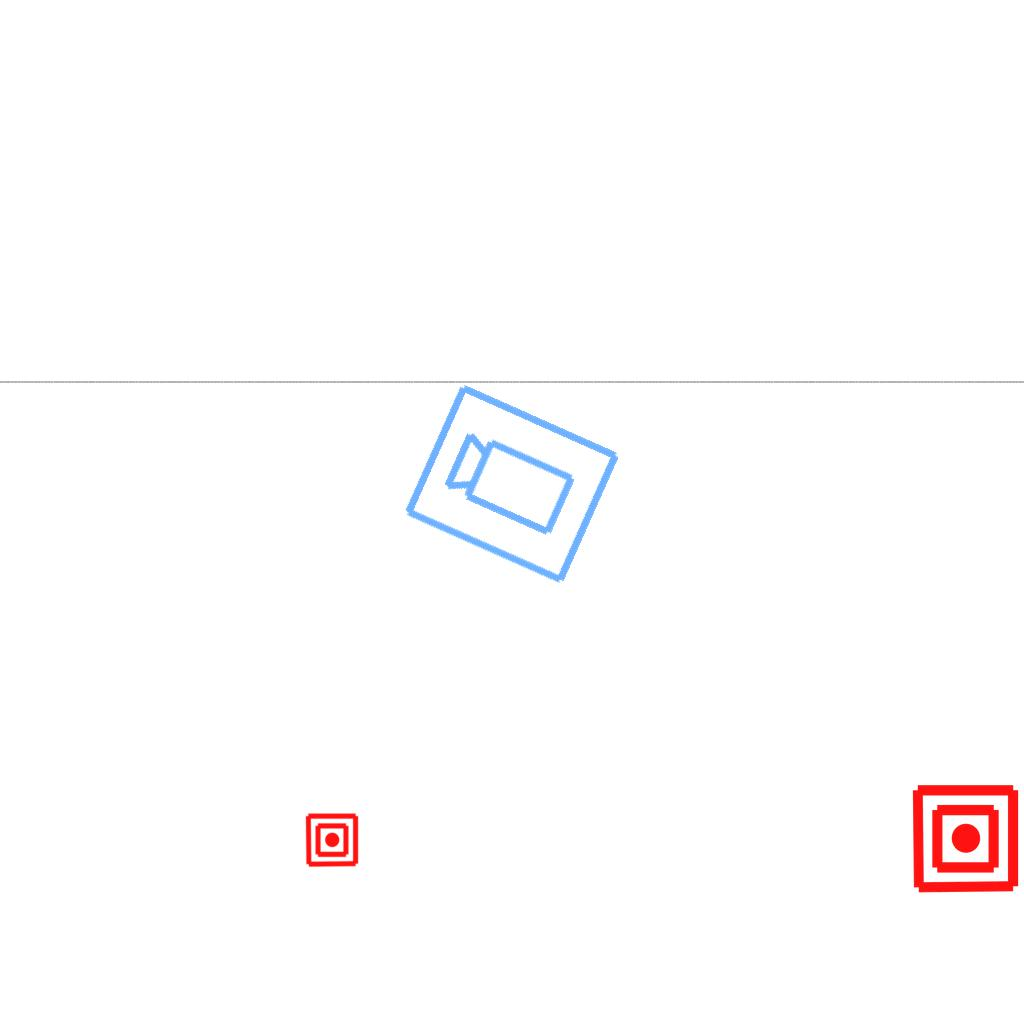KFO_Kamera_mit_Festobjektiv: (398, 375, 628, 591)
NAM-Nichtautomatischer_Melder: (909, 782, 1022, 895), (304, 812, 360, 868)
